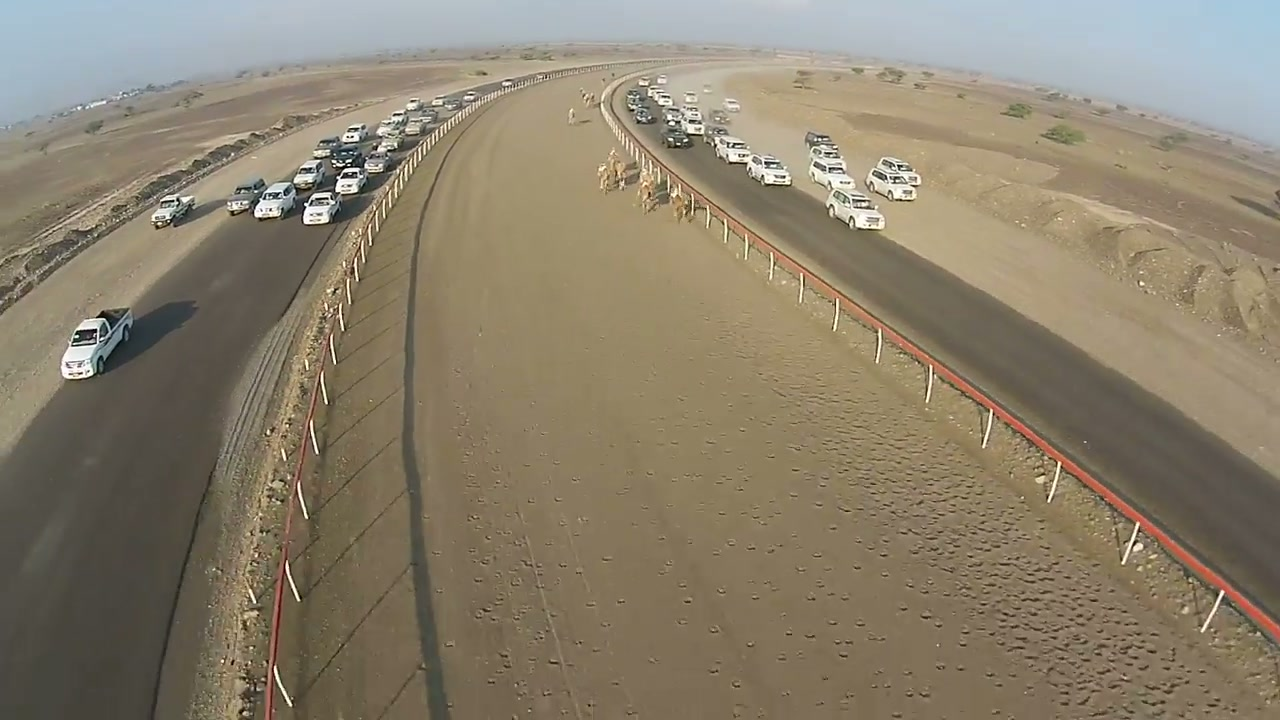animal_footprint: (744, 317, 1230, 702), (682, 327, 986, 719), (435, 391, 586, 689)
